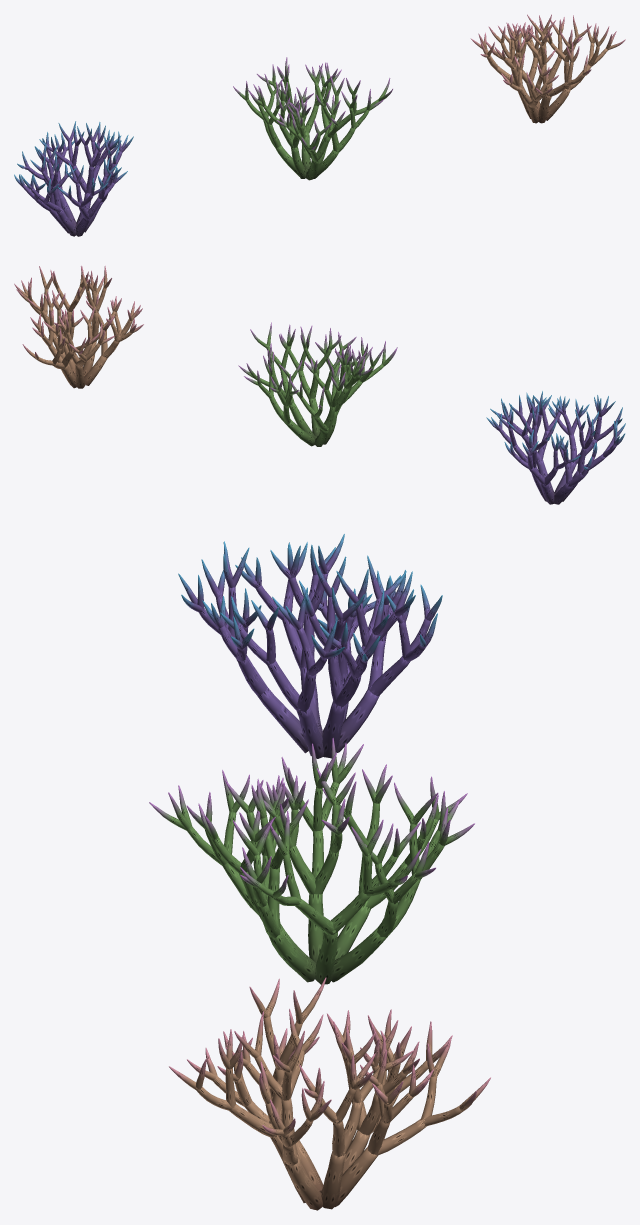
The picture shows the model from 3 angles, top to bottom: view 1: azimuth 30°, elevation 25°; view 2: azimuth 150°, elevation 25°; view 3: azimuth 270°, elevation 25°; orthographic projection. The views are drawn at different scales.
Visible parts, largest first — view 1: acropora-1, acropora-2, acropora-0; view 2: acropora-1, acropora-0, acropora-2; view 3: acropora-1, acropora-0, acropora-2.
Boxes of the visible parts, bbox=[...] form: acropora-1: bbox=[233, 57, 392, 180]; acropora-2: bbox=[470, 14, 625, 123]; acropora-0: bbox=[14, 121, 133, 236]; acropora-1: bbox=[238, 322, 397, 446]; acropora-0: bbox=[486, 391, 625, 504]; acropora-2: bbox=[14, 265, 143, 388]; acropora-1: bbox=[149, 738, 474, 984]; acropora-0: bbox=[178, 534, 442, 758]; acropora-2: bbox=[169, 977, 490, 1210].
Size of the model in its own units: 1.54 by 0.2739 by 0.3849.
1 material, 1 textured.
